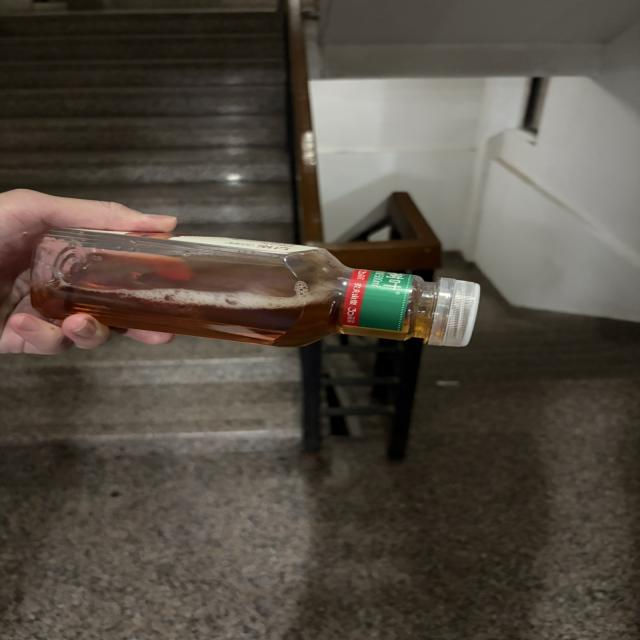medium: (31, 228, 479, 347)
